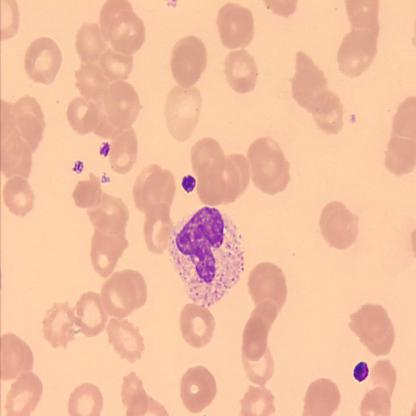Band Neutrophil: (166, 202, 246, 309)
